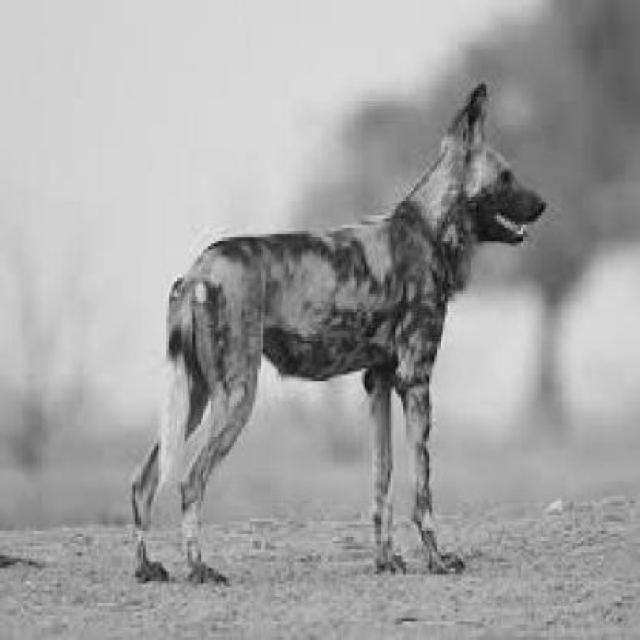Dog: (130, 75, 588, 600)
